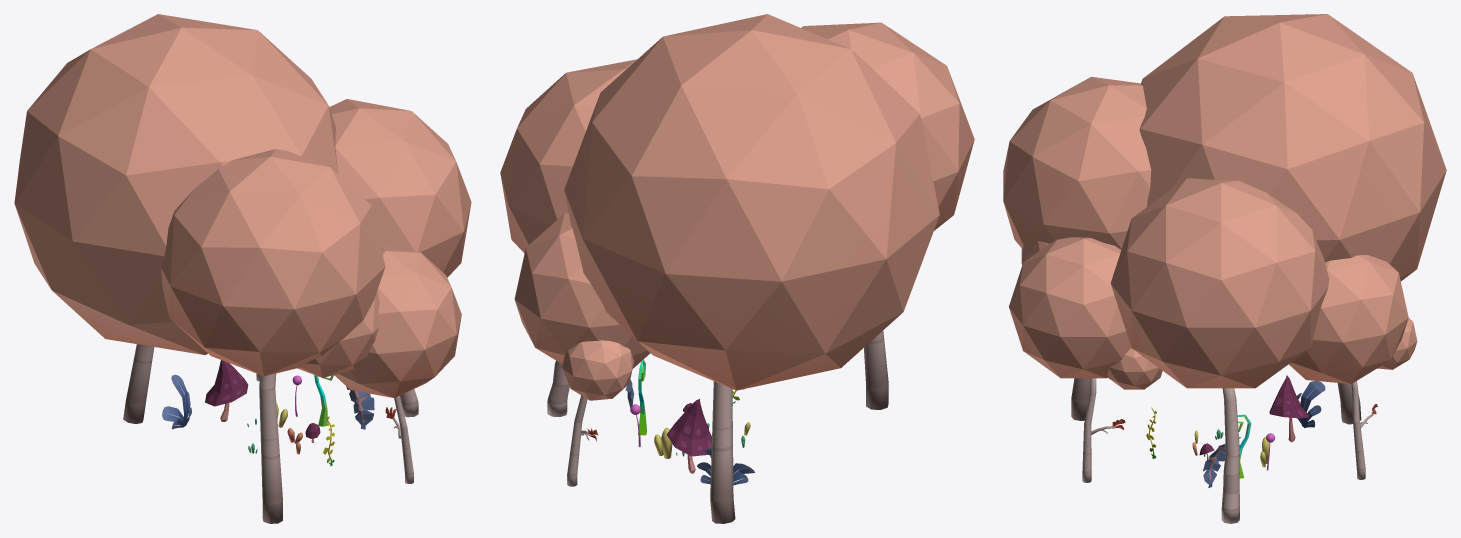
Rendered from mdl_env_1_forest_intro.fbx.
3 views of the same model, side by side, from view 1: azimuth 30°, elevation 25°; view 2: azimuth 150°, elevation 25°; view 3: azimuth 270°, elevation 25° (orthographic). The views are drawn at different scales.
Visible parts, largest first — view 1: mdl_env_1_forest_tree_e_v03; view 2: mdl_env_1_forest_tree_e_v03; view 3: mdl_env_1_forest_tree_e_v03.
Part boxes in pixels (x1,y1,x2,y2): mdl_env_1_forest_tree_e_v03: (14,14,471,523); mdl_env_1_forest_tree_e_v03: (500,14,974,523); mdl_env_1_forest_tree_e_v03: (1003,14,1446,523).
Size of the model in its own units: 22.51 by 23.23 by 23.16.
